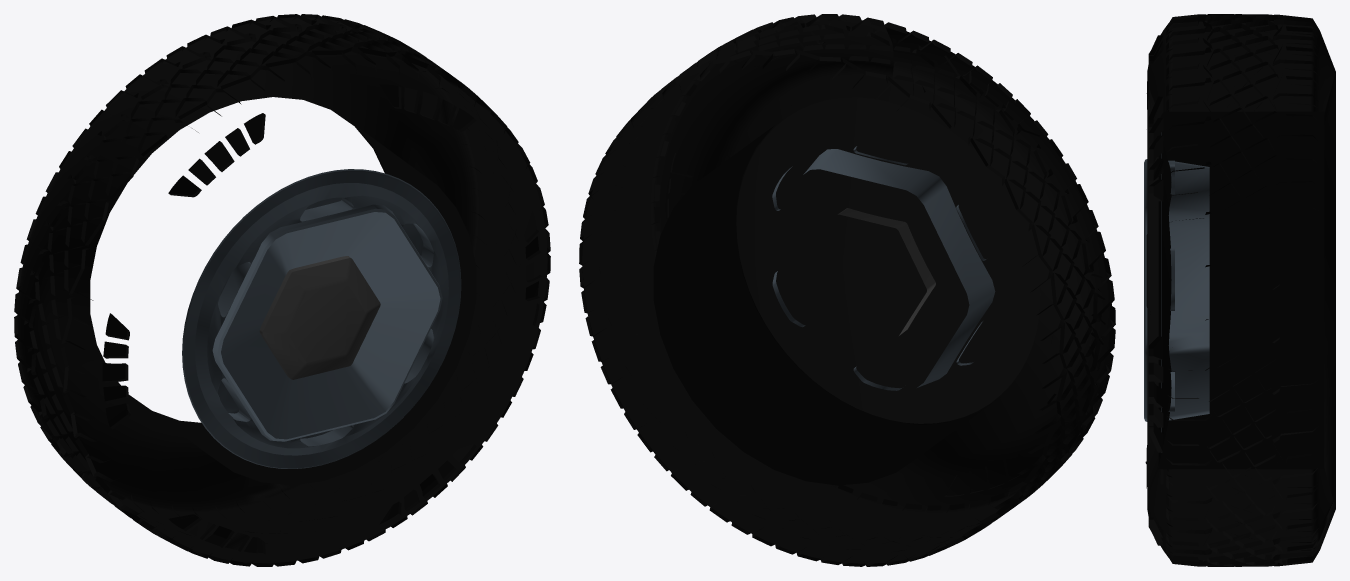
Rendered from Wheel_Cybertruck_RWD.glb.
The picture shows the model from 3 angles, left to right: view 1: azimuth 30°, elevation 25°; view 2: azimuth 150°, elevation 25°; view 3: azimuth 270°, elevation 25°; orthographic projection.
Visible parts, largest first — view 1: Wheel_Cybertruck_RWD2; view 2: Wheel_Cybertruck_RWD2; view 3: Wheel_Cybertruck_RWD2.
Part boxes in pixels (x1=…): Wheel_Cybertruck_RWD2: x1=14, y1=14, x2=550, y2=566; Wheel_Cybertruck_RWD2: x1=579, y1=14, x2=1115, y2=566; Wheel_Cybertruck_RWD2: x1=1144, y1=14, x2=1335, y2=566.
Bounding box in the file's own units: 0.8334 × 0.8334 × 0.2892.
2 materials, 1 textured.
